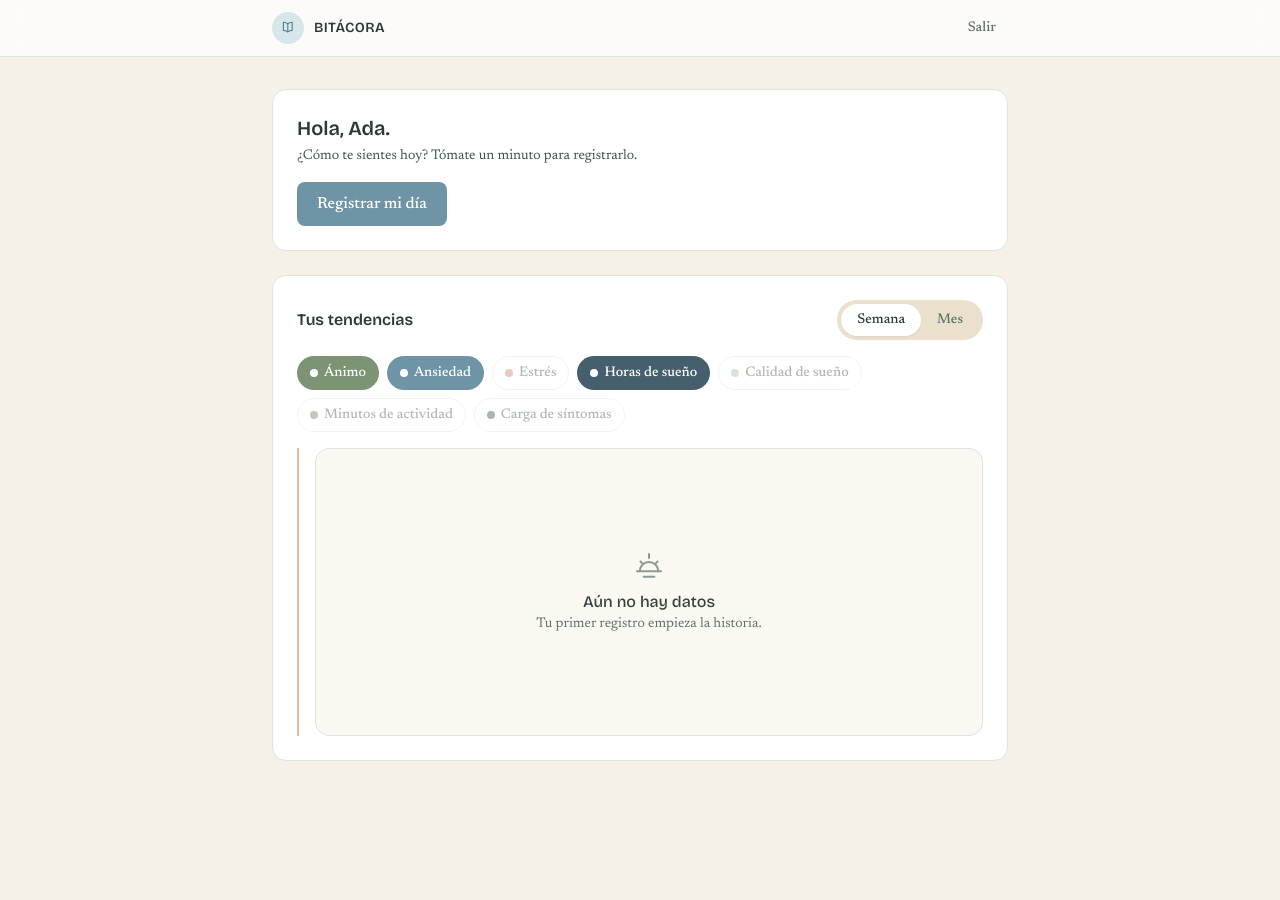
Scenario: DashboardPage › opens the daily log modal when "Registrar mi día" is clicked
The width and height of the screenshot is (1280, 900).
Click the button "Registrar mi día" at [372, 204], box [297,182,447,226]
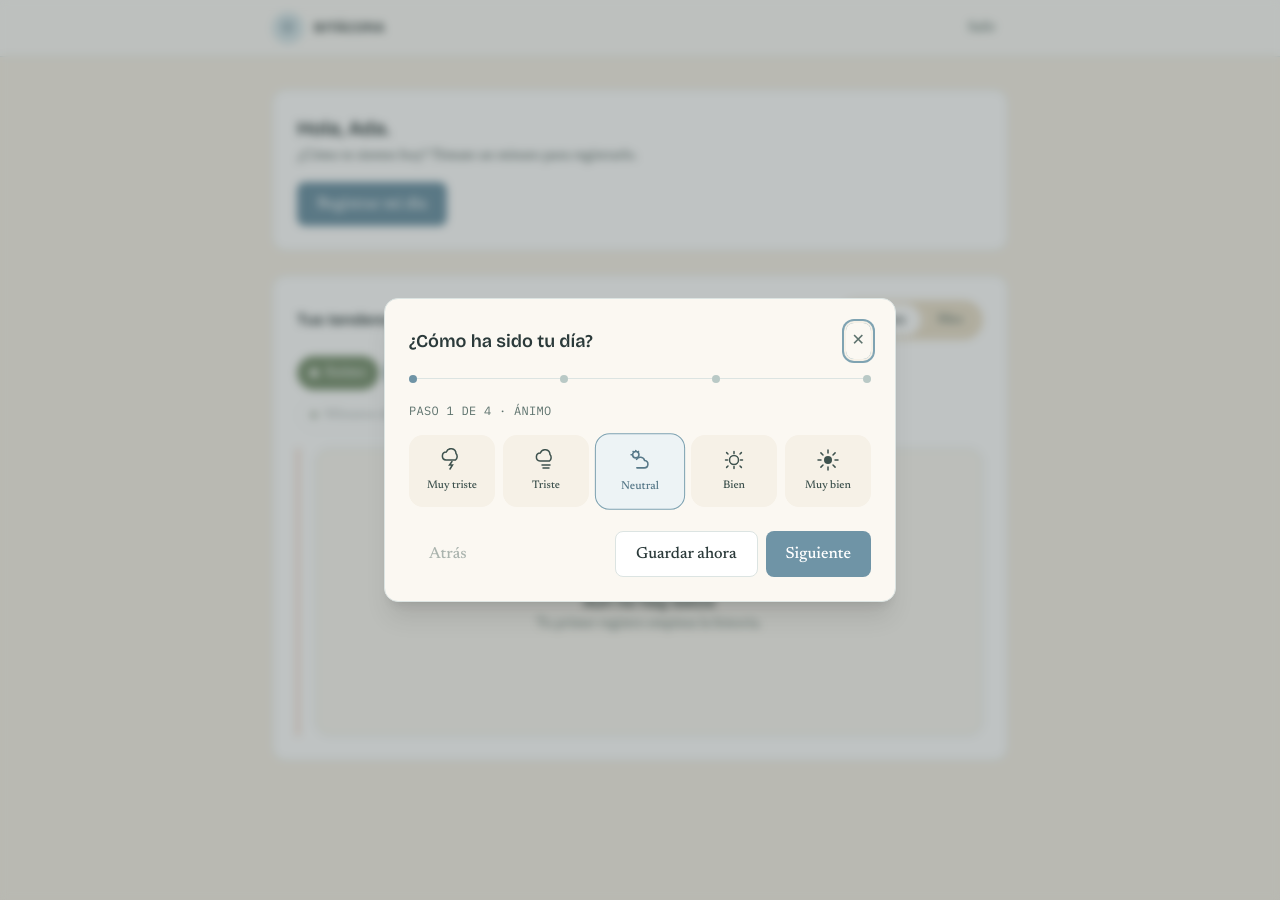
expect the dialog "¿Cómo ha sido tu día?" is shown: met, box [384,298,896,602]
